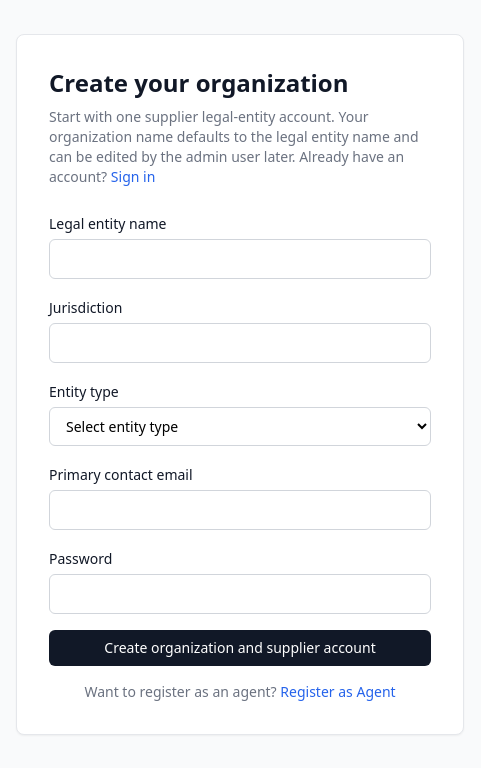
Test: SupplierRegisterPage › shows inline errors for all required fields when submitted empty
Click the button "Create organization and supplier account": (240,648) [49,630,431,666]
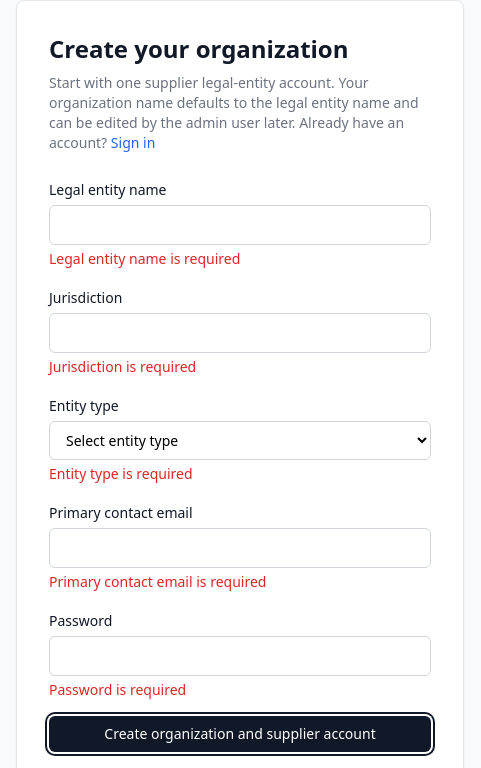
expect the text "Legal entity name is required" is shown: met, box [49,249,240,268]
expect the text "Jurisdiction is required" is shown: met, box [49,357,196,376]
expect the text "Entity type is required" is shown: met, box [49,464,192,483]
